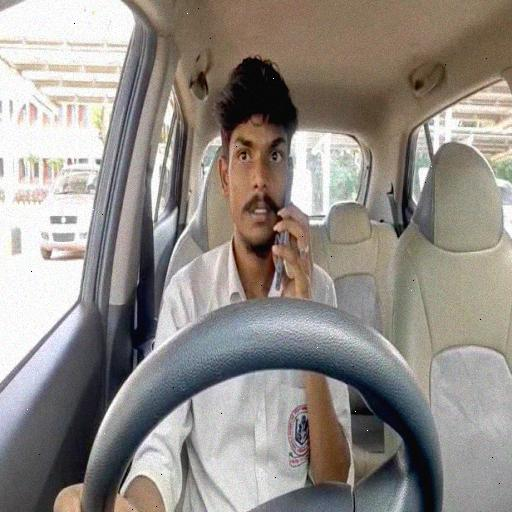Talking_on_phone: (215, 51, 315, 294)
